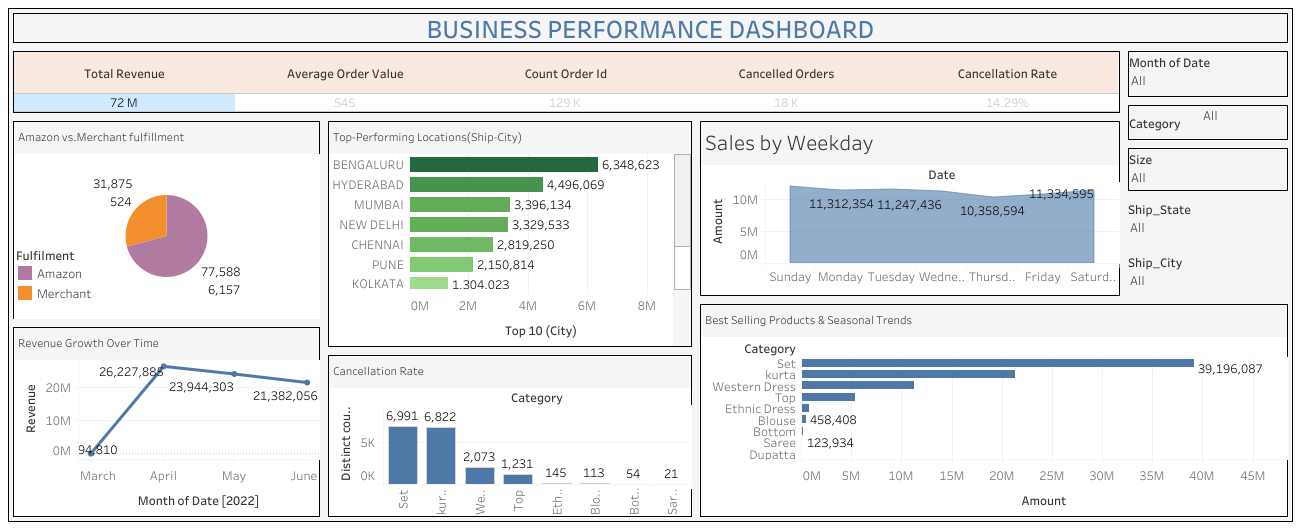

What the dashboard file says about the page in this screenshot:
{"tool":"tableau","page":{"name":"Dashboard 2","canvas":[1000,1000],"units":"permille","ordinal":1},"visuals":[{"type":"title","box":[7.8,16.6,984.4,69.9]},{"type":"worksheet","title":"Cards","mark":"Automatic","box":[7.8,86.4,855.6,131.7]},{"type":"filter","title":"Top-Performing Locations(Ship-City)","param":"[federated.0em97od097tmvm19wykuw0vlv8d0].[mn:Date:ok]","box":[863.4,86.4,128.8,101.9]},{"type":"filter","title":"Amazon vs.Merchant fulfillment","param":"[federated.0em97od097tmvm19wykuw0vlv8d0].[none:Category:nk]","box":[863.4,188.3,128.8,81.8]},{"type":"worksheet","title":"Amazon vs.Merchant fulfillment","mark":"Pie","box":[7.8,218.1,241.9,391.5]},{"type":"worksheet","title":"Top-Performing Locations(Ship-City)","mark":"Automatic","rows":["ship-city"],"box":[249.7,218.1,285.2,444.1]},{"type":"worksheet","title":"Sales by Weekday","mark":"Area","rows":["Amount"],"cols":["Date"],"box":[534.9,218.1,328.4,347.9]},{"type":"filter","title":"Amazon vs.Merchant fulfillment","param":"[federated.0em97od097tmvm19wykuw0vlv8d0].[none:Size:nk]","box":[863.4,270.2,128.8,95.6]},{"type":"filter","title":"Amazon vs.Merchant fulfillment","param":"[federated.0em97od097tmvm19wykuw0vlv8d0].[none:Calculation_1069323478830440448:n","box":[863.4,365.8,128.8,100.1]},{"type":"legend","title":"Amazon vs.Merchant fulfillment","param":"[federated.0em97od097tmvm19wykuw0vlv8d0].[none:Fulfilment:nk]","box":[11.3,459.6,121.2,106.6]},{"type":"filter","title":"Sales by Weekday","param":"[federated.0em97od097tmvm19wykuw0vlv8d0].[none:Ship_State (copy)_106932347883181","box":[863.4,465.9,128.8,100.1]},{"type":"worksheet","title":"Best Selling Products & Seasonal Trends","mark":"Automatic","rows":["Category"],"cols":["Amount"],"box":[534.9,566,457.3,417.4]},{"type":"worksheet","title":"Revenue Growth Over Time","mark":"Automatic","rows":["Calculation_1177409869154103297"],"cols":["Date"],"box":[7.8,609.6,241.9,373.8]},{"type":"worksheet","title":"Cancellation Rate","mark":"Automatic","rows":["Order ID"],"cols":["Category"],"box":[249.7,662.2,285.2,321.2]}]}

Visuals, with their boxes on the dashboard's canvas, which has no fixed pixel size, in thousandths of its width and height (x1, y1, x2, y2). These are canvas units, not pixel positions in the 1300x529 screenshot, which may show the page scaled, cropped or inside an application window:
title: region(8, 17, 992, 86)
"Cards" worksheet: region(8, 86, 863, 218)
"Top-Performing Locations(Ship-City)" filter: region(863, 86, 992, 188)
"Amazon vs.Merchant fulfillment" filter: region(863, 188, 992, 270)
"Amazon vs.Merchant fulfillment" worksheet (Pie marks): region(8, 218, 250, 610)
"Top-Performing Locations(Ship-City)" worksheet: region(250, 218, 535, 662)
"Sales by Weekday" worksheet (Area marks): region(535, 218, 863, 566)
"Amazon vs.Merchant fulfillment" filter: region(863, 270, 992, 366)
"Amazon vs.Merchant fulfillment" filter: region(863, 366, 992, 466)
"Amazon vs.Merchant fulfillment" legend: region(11, 460, 132, 566)
"Sales by Weekday" filter: region(863, 466, 992, 566)
"Best Selling Products & Seasonal Trends" worksheet: region(535, 566, 992, 983)
"Revenue Growth Over Time" worksheet: region(8, 610, 250, 983)
"Cancellation Rate" worksheet: region(250, 662, 535, 983)
